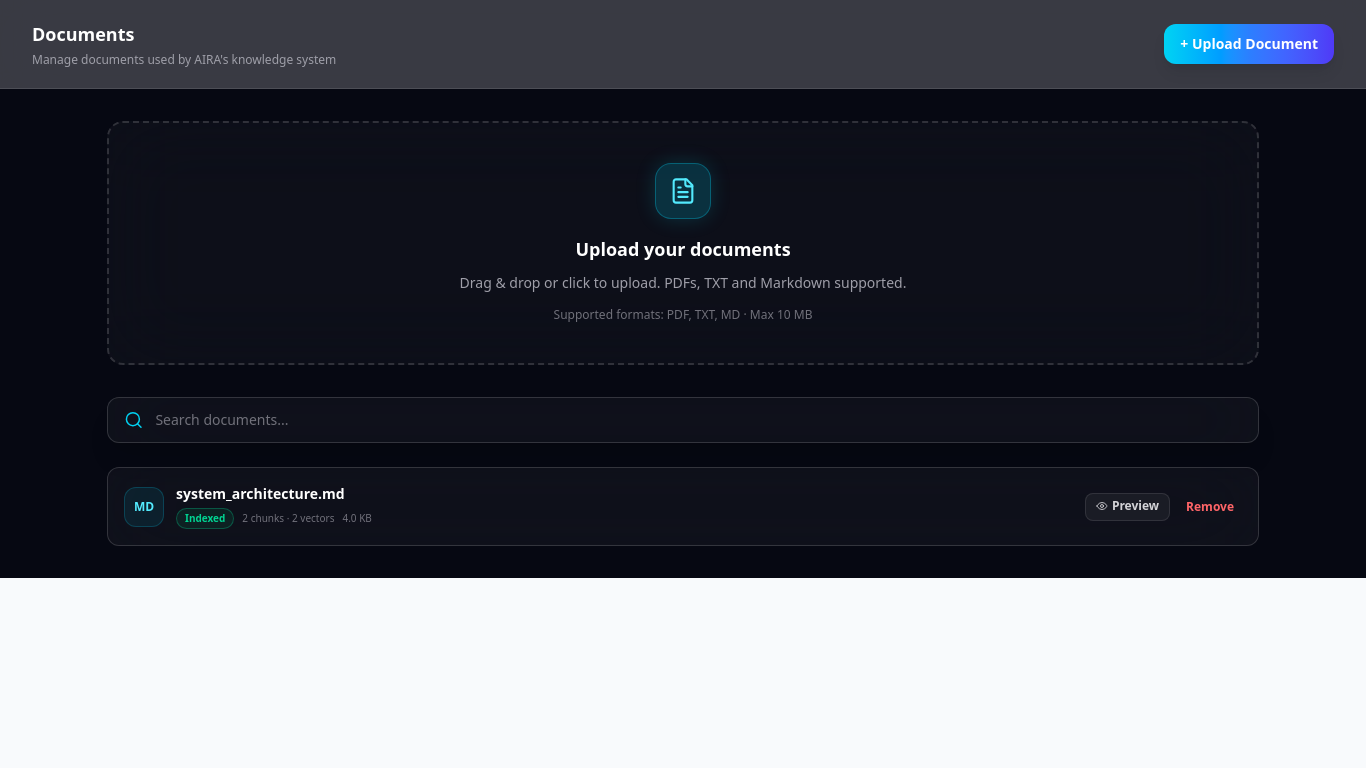
DocumentsPage — Remove button › shows an error banner and keeps the card when Qdrant delete fails
Expected: the heading "system_architecture.md" is shown, [176, 484, 372, 504]
Step 1. Click the button with aria-label "Remove system_architecture.md" → point(1210, 506), box [1178, 494, 1242, 518]
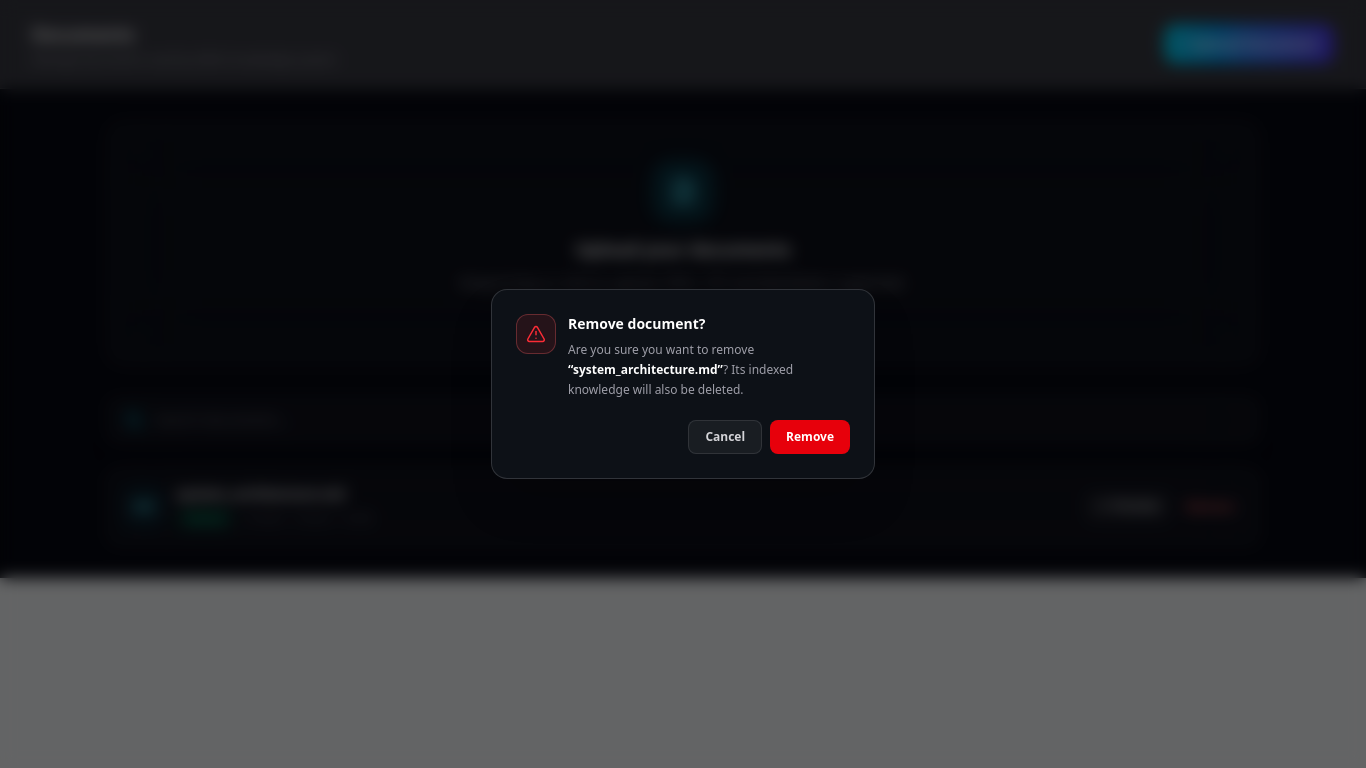
Now the dialog is shown
Step 2. Click the button "Remove" → point(810, 437), box [770, 420, 850, 454]
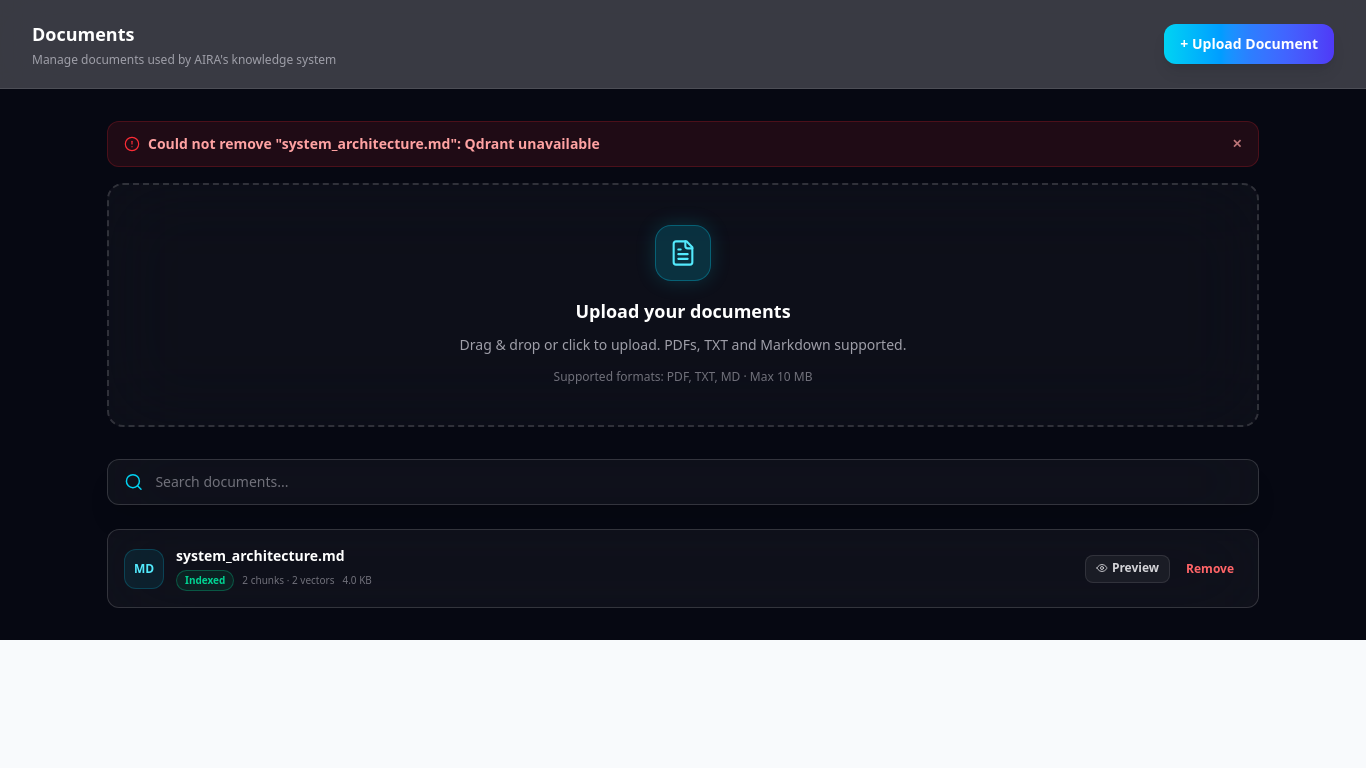
Expected: the heading "system_architecture.md" is shown, [176, 546, 372, 566]
Now the text "Could not remove" is shown, box [148, 134, 600, 153]
